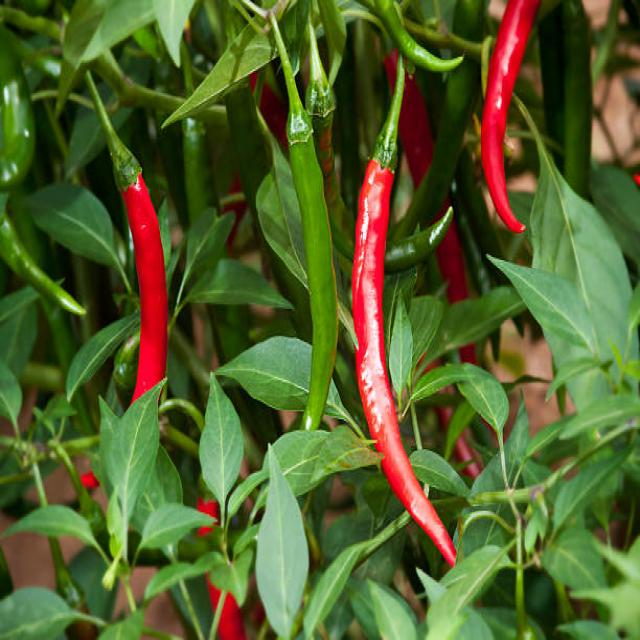Ripe: (352, 161, 455, 564), (481, 0, 540, 230), (122, 173, 167, 402)
Unripe: (290, 137, 337, 429), (305, 20, 351, 276), (386, 208, 452, 273)
